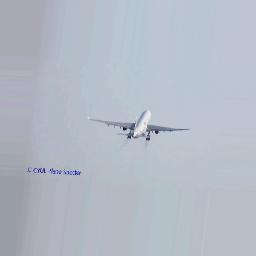Airplane: (85, 109, 190, 141)
